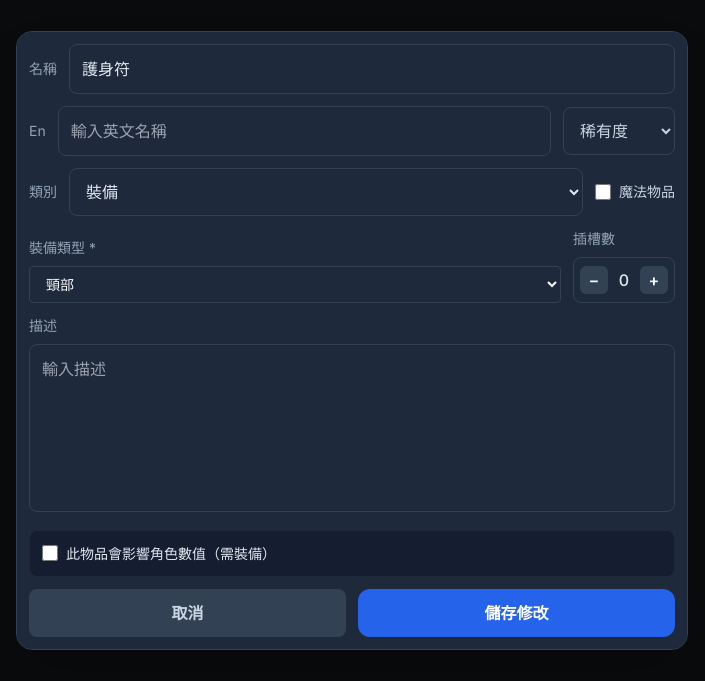
Test: CharacterItemEditModal - applies_unequipped 文案與子選項 › 裝備類別勾選影響數值後，才顯示「此物品無須裝備也有效果」子選項
Expected: the text "此物品無須裝備也有效果" is not shown
Click the text "此物品會影響角色數值（需裝備）" at [159, 553], box [42,544,276,562]
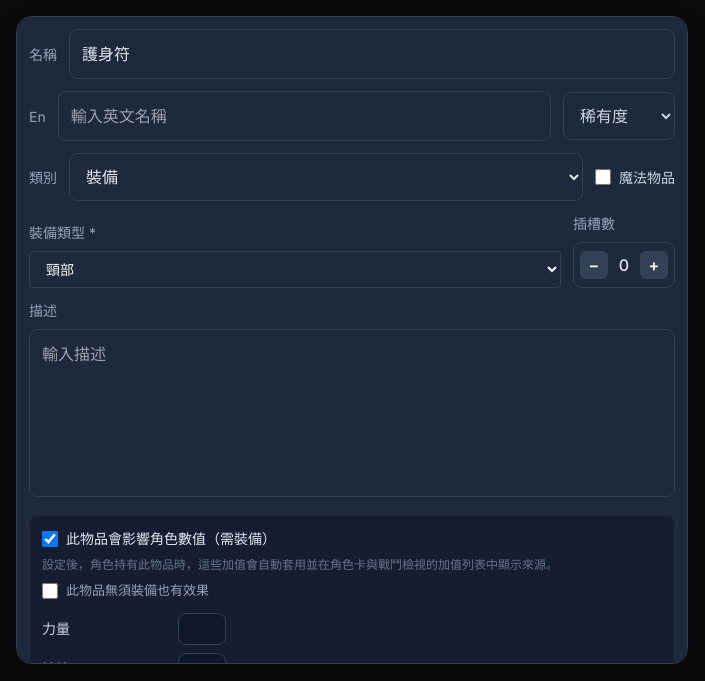
Expected: the text "此物品無須裝備也有效果" is shown, [42,582,209,599]
